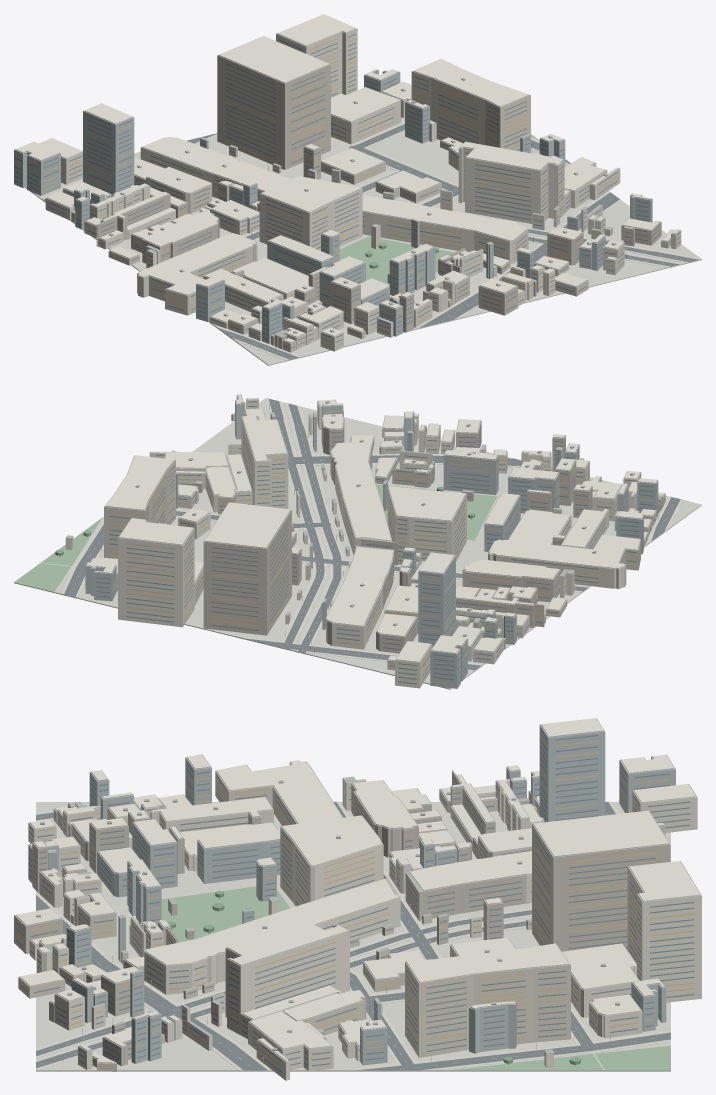
3 views of the same model, one above another, from view 1: azimuth 30°, elevation 25°; view 2: azimuth 150°, elevation 25°; view 3: azimuth 270°, elevation 25° (orthographic). The views are drawn at different scales.
Parts seen in each view (by area): view 1: city; view 2: city; view 3: city.
Part boxes in pixels (x1,y1,x2,y2): city: (14, 14, 701, 365); city: (14, 394, 701, 689); city: (14, 718, 701, 1080).
Size of the model in its own units: 551 by 96.65 by 542.
